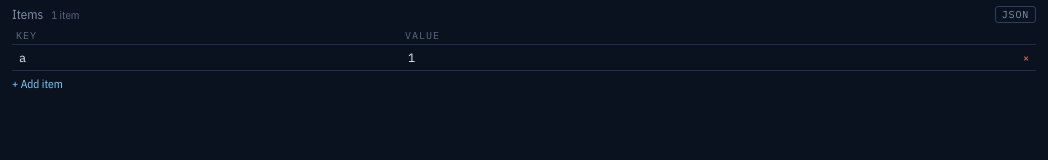
DictEditor (2026-10-10, a cache's items as a table) › adds a row focused on its key, committed once it has one; × deletes a row
The image size is (1048, 160).
Step 1. Click the button "+ Add item" → (37, 84), box 12,76 -> 63,91
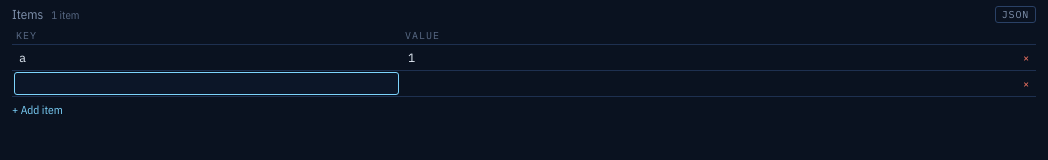
Step 2. Leave the field named "Key 2", box 14,72 -> 399,95
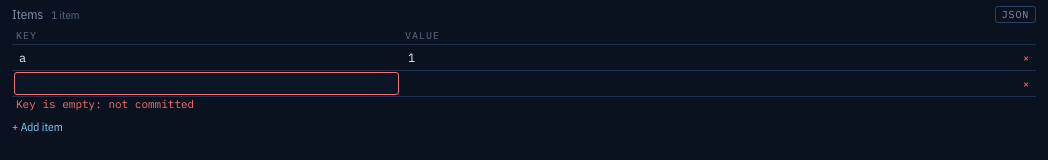
Result: the text "Key is empty: not committed" is shown at 12,96 -> 1036,114
Step 3. Type "b" into the field named "Key 2" → (207, 84), box 14,72 -> 399,95
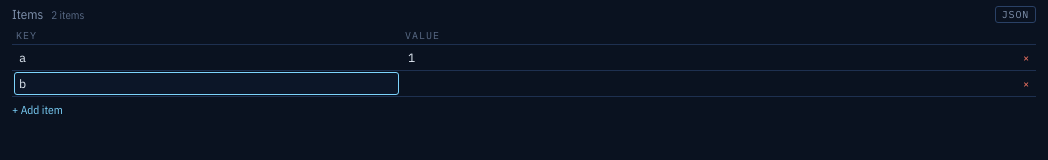
Step 4. Type "2" into the field named "Value 2" → (709, 84), box 403,72 -> 1014,95
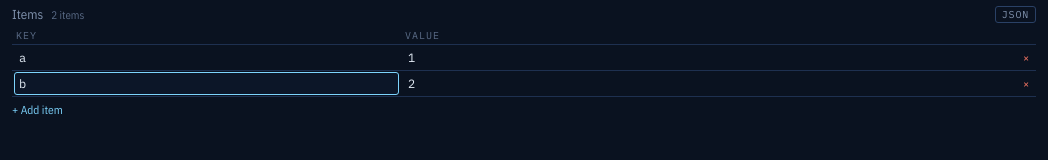
Step 5. Click the button named "Delete item 1" → (1026, 58), box 1023,50 -> 1029,65
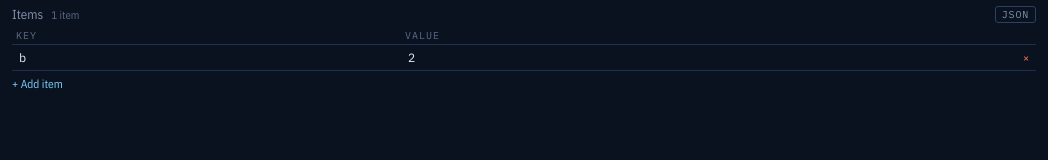
Result: the text "1 item" is shown at 51,8 -> 80,22
